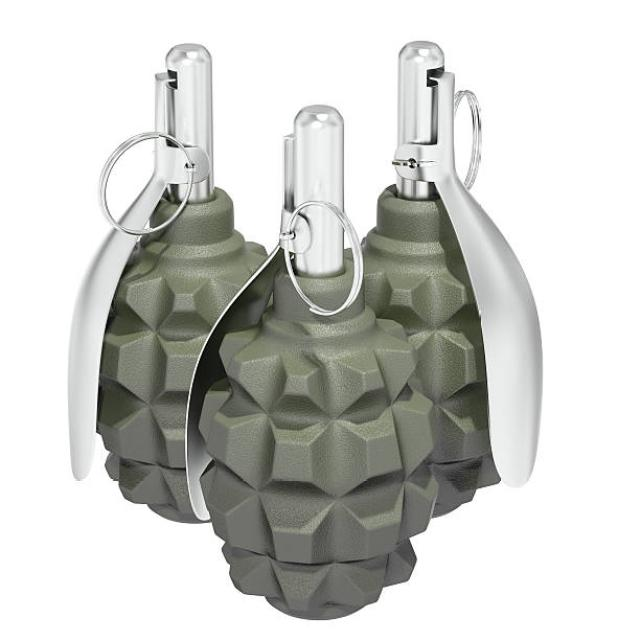grenade: (181, 97, 444, 628), (57, 41, 272, 531), (358, 37, 550, 500)
